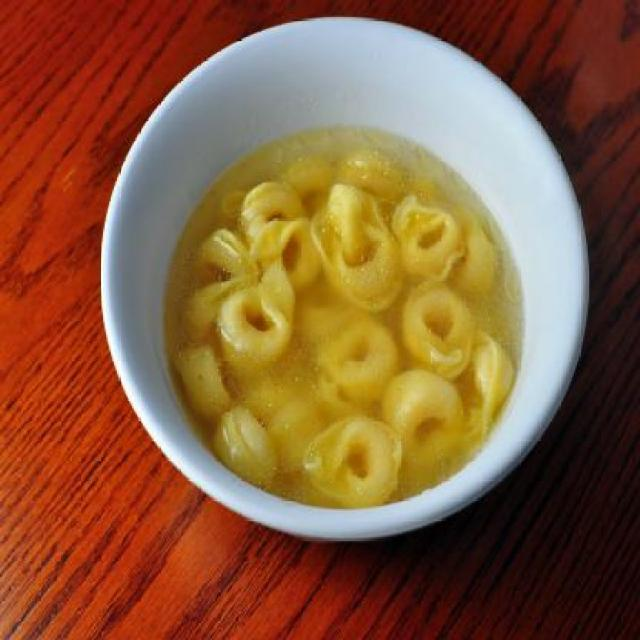Tortellini in broth: (202, 130, 492, 492)
